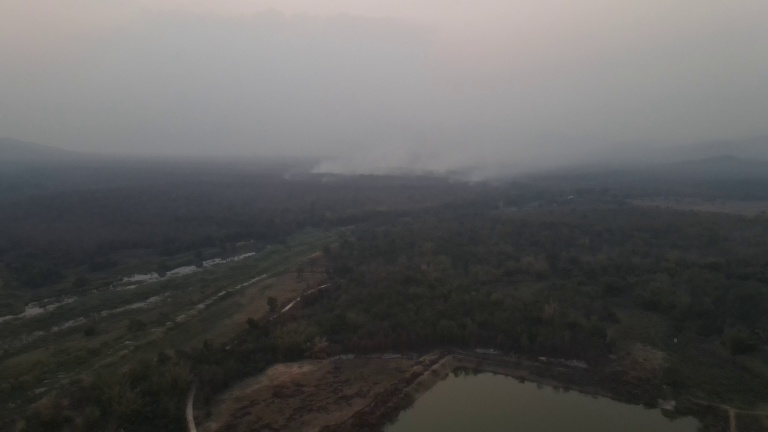smoke: (305, 115, 560, 183)
